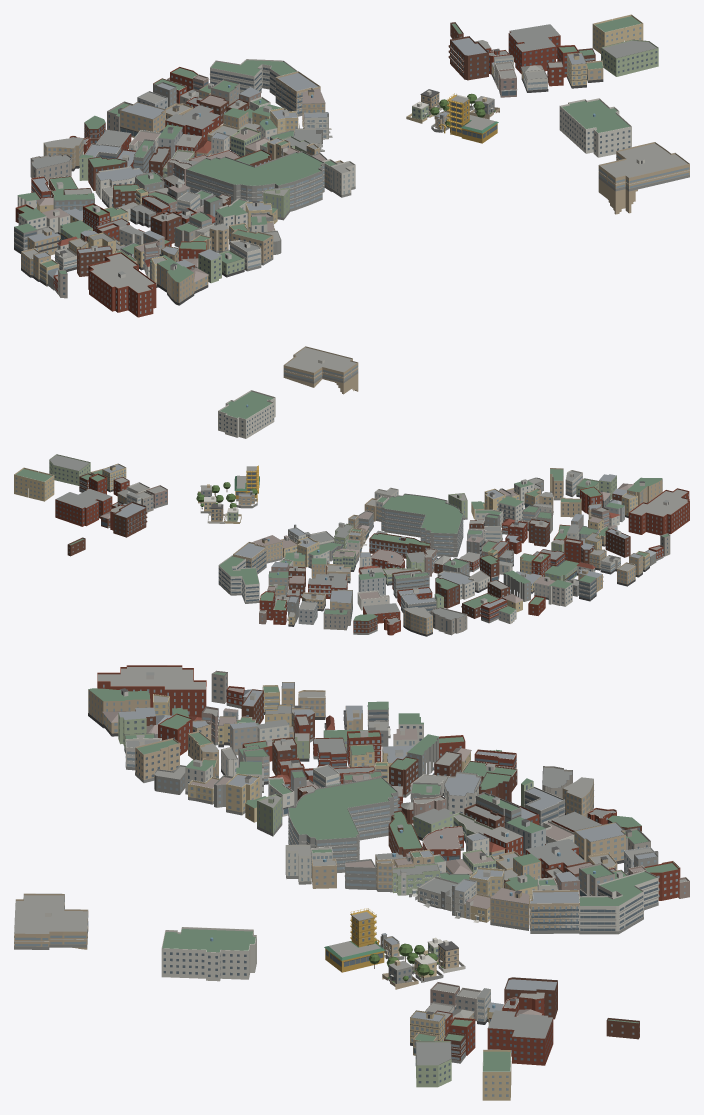
3 renders of one model, top to bottom at view 1: azimuth 30°, elevation 25°; view 2: azimuth 150°, elevation 25°; view 3: azimuth 270°, elevation 25°, orthographic. The views are drawn at different scales.
Visible parts, largest first — view 1: context-static, context-height-775099849, context-near-775111328, context-gate-east-extras, context-near-784279568; view 2: context-static, context-height-775099849, context-gate-east-extras, context-near-775111328; view 3: context-static, context-height-775099849, context-gate-east-extras, context-near-775111328, context-near-784279570, context-near-775222479, context-near-784279568, context-near-784279566.
Part boxes in pixels (x1,y1,x2,y2): context-static: (14,14,658,317); context-height-775099849: (598,142,689,214); context-near-775111328: (447,93,498,143); context-gate-east-extras: (406,89,499,133); context-near-784279568: (304,112,332,139); context-static: (14,390,689,636); context-height-775099849: (283,346,358,394); context-gate-east-extras: (196,482,257,523); context-near-775111328: (234,465,259,498); context-static: (88,665,689,1100); context-height-775099849: (14,893,88,949); context-gate-east-extras: (367,937,465,989); context-near-775111328: (324,908,385,972); context-near-784279570: (392,863,439,897); context-near-775222479: (415,876,458,911); context-near-784279568: (451,879,476,918); context-near-784279566: (464,893,491,922).
Bounding box in the file's own units: 451 × 54.39 × 323.
